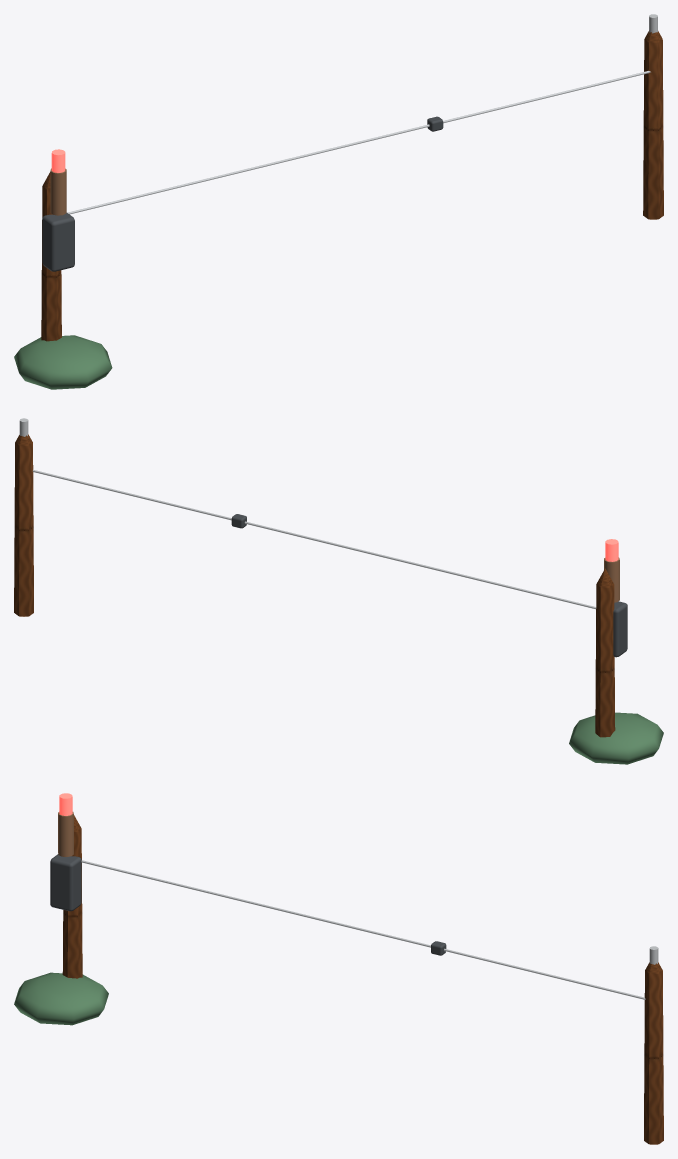
Rendered from fps-survival-forest-outpost-tripwire-flare-20163459__32647.glb.
3 renders of one model, top to bottom at view 1: azimuth 30°, elevation 25°; view 2: azimuth 150°, elevation 25°; view 3: azimuth 330°, elevation 25°, orthographic. The views are drawn at different scales.
Visible parts, largest first — view 1: tripwire-flare; view 2: tripwire-flare; view 3: tripwire-flare.
Boxes of the visible parts, box(x1,y1,x2,y2) form: tripwire-flare: box(14, 14, 663, 389); tripwire-flare: box(14, 418, 663, 764); tripwire-flare: box(14, 793, 663, 1144).
Bounding box in the file's own units: 3.26 × 1.07 × 0.44.
6 materials, 1 textured.
